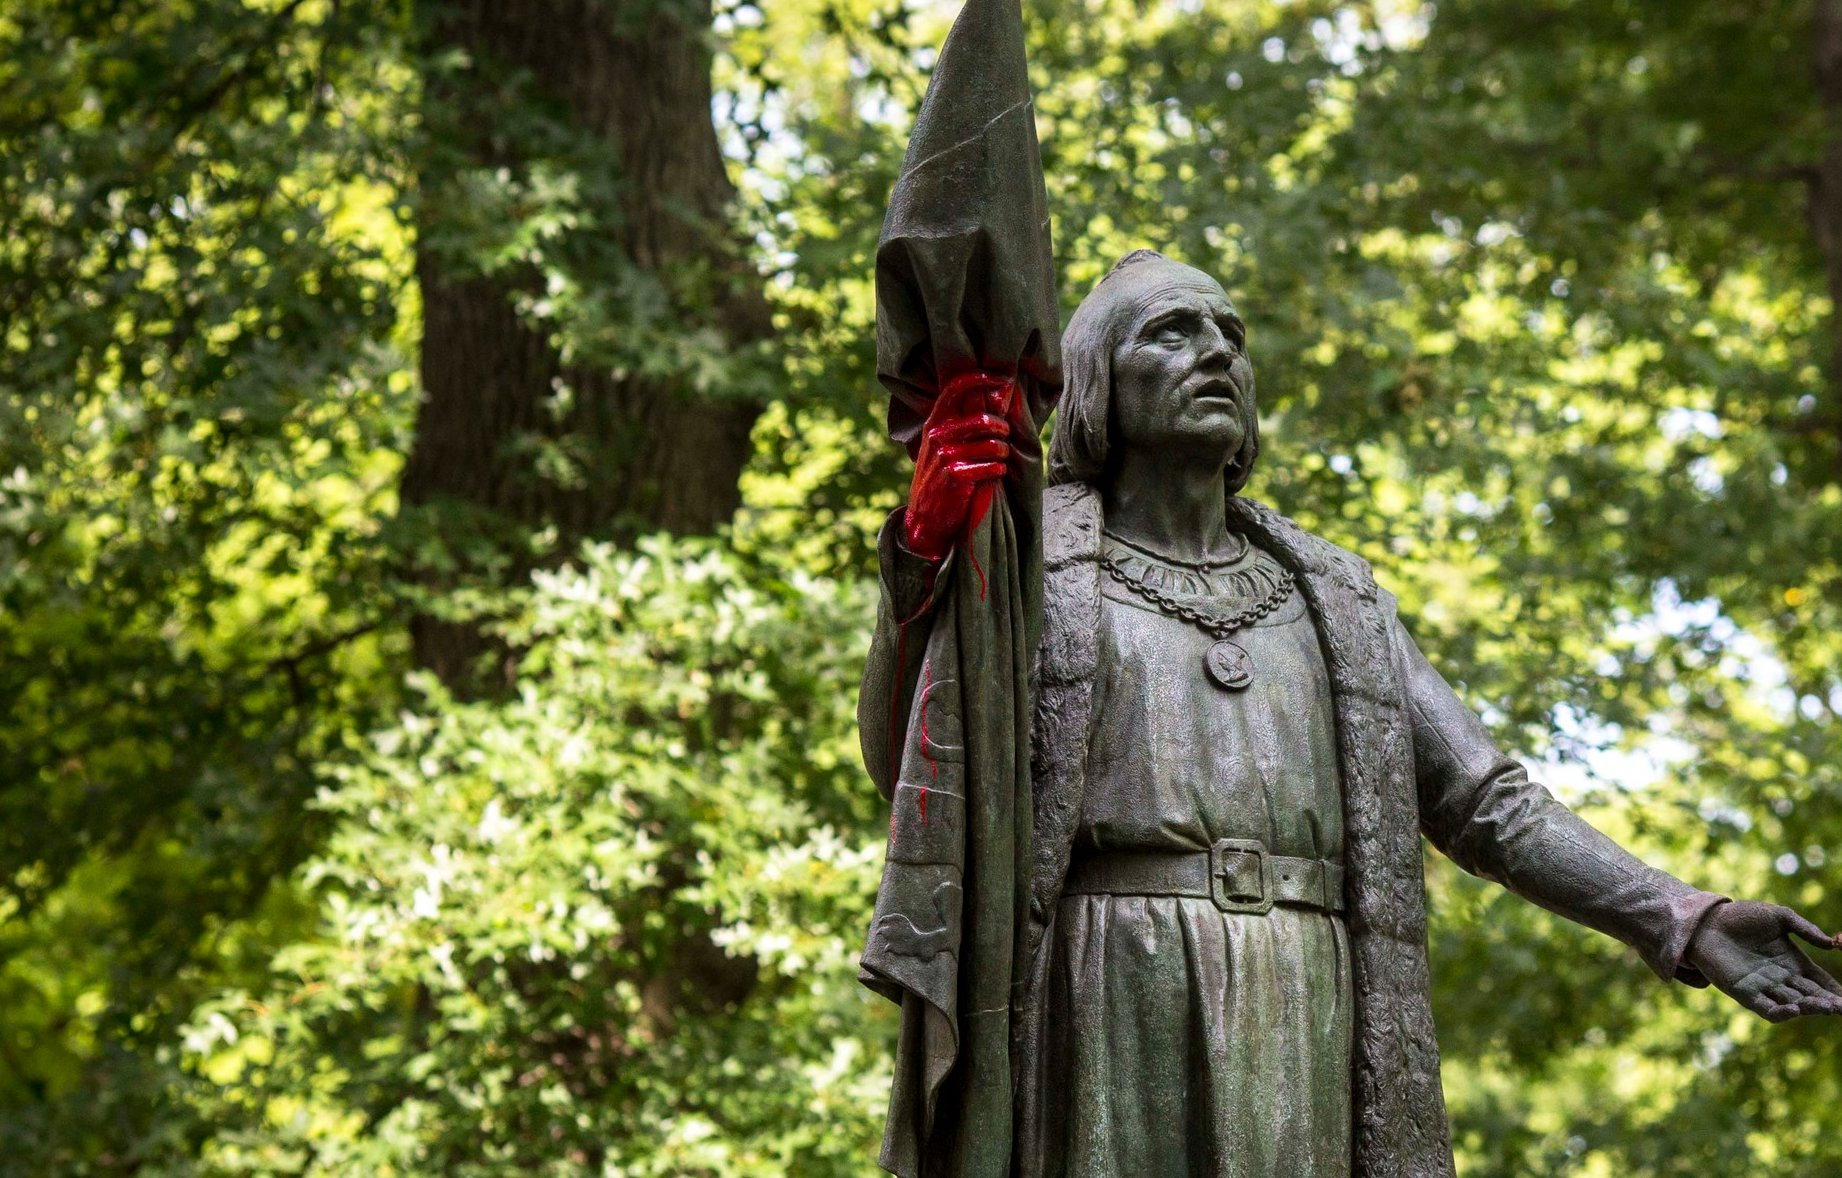person-like: (844, 240, 1842, 1176)
